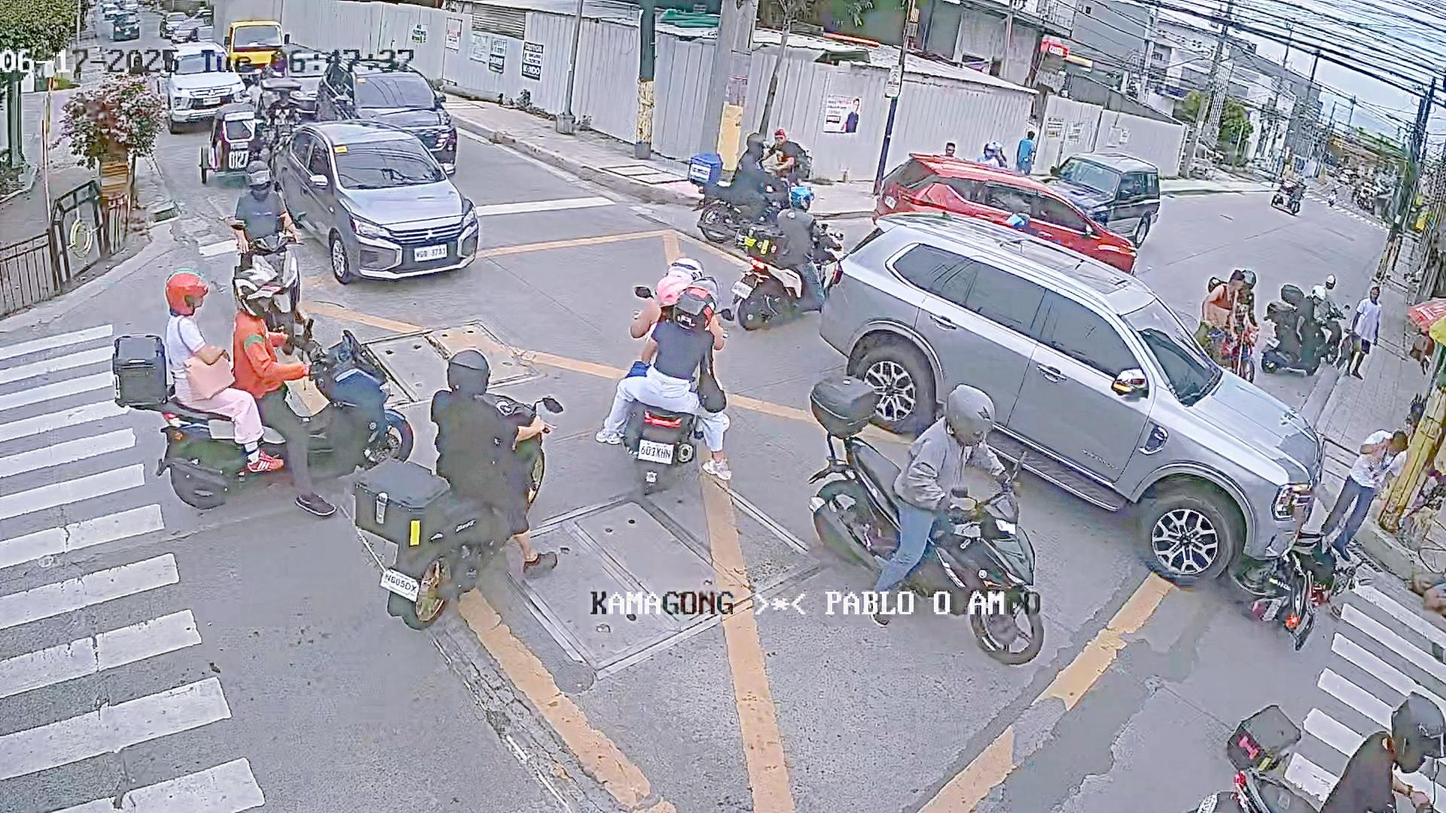Car: (831, 200, 1282, 516), (264, 122, 499, 280), (862, 153, 1152, 271), (305, 64, 509, 177), (1035, 135, 1172, 234)
Minor Accident: (835, 222, 1389, 609)
Motor: (751, 390, 1089, 687), (100, 322, 420, 482), (370, 381, 572, 597), (1217, 676, 1446, 813), (611, 283, 735, 497), (1225, 522, 1341, 663), (664, 140, 798, 249), (729, 217, 856, 329), (213, 223, 325, 318), (1259, 291, 1338, 389)
